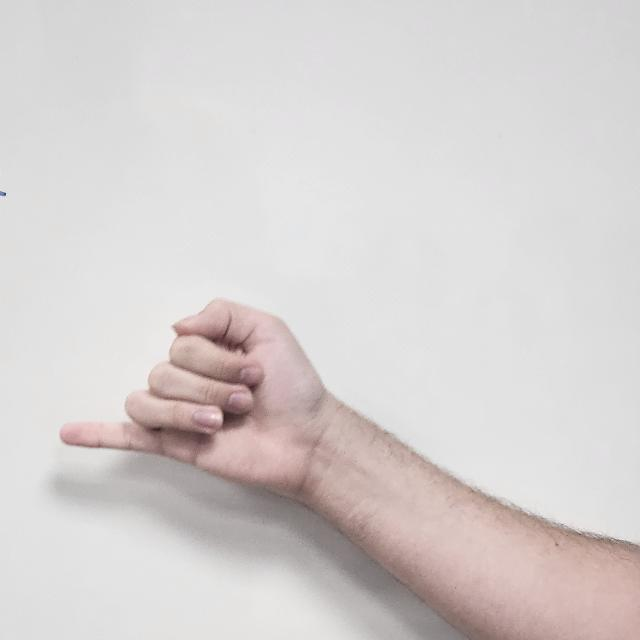Esquerda: (59, 243, 315, 543)
